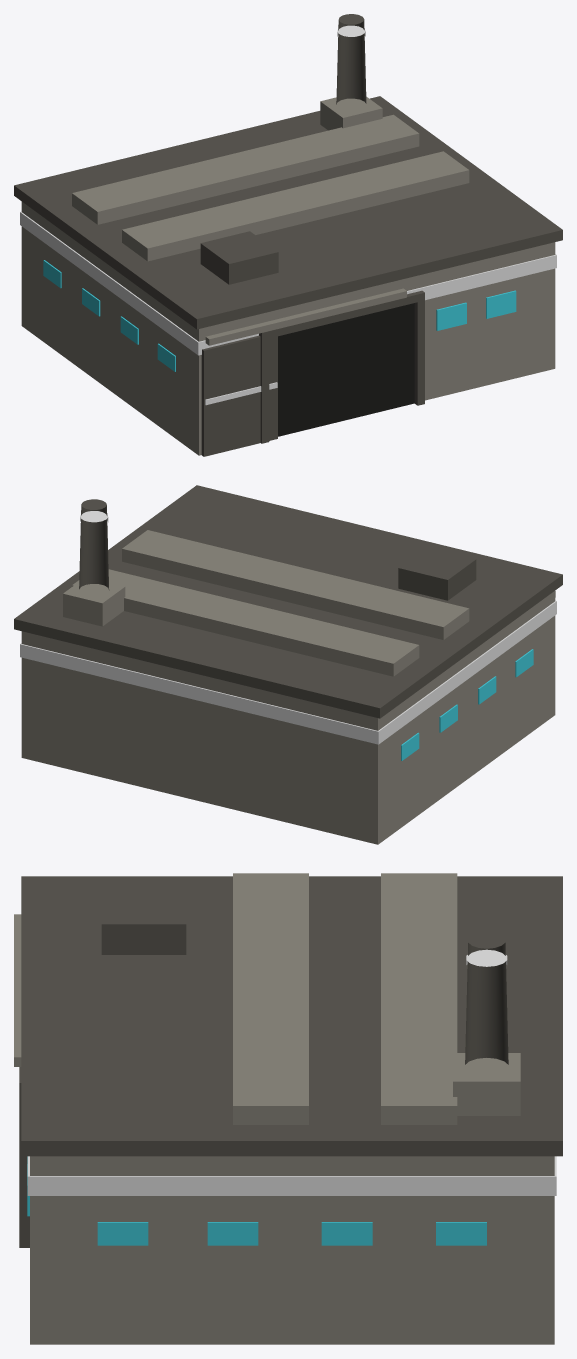
3 renders of one model, top to bottom at view 1: azimuth 30°, elevation 25°; view 2: azimuth 150°, elevation 25°; view 3: azimuth 270°, elevation 25°, orthographic. The views are drawn at different scales.
Parts seen in each view (by area): view 1: dweller_building_robotfactory; view 2: dweller_building_robotfactory; view 3: dweller_building_robotfactory.
Boxes of the visible parts, box(x1,y1,x2,y2) form: dweller_building_robotfactory: box(14, 14, 562, 456); dweller_building_robotfactory: box(14, 485, 562, 844); dweller_building_robotfactory: box(14, 873, 562, 1344).
Bounding box in the file's own units: 14.8 × 9.6 × 12.97.
